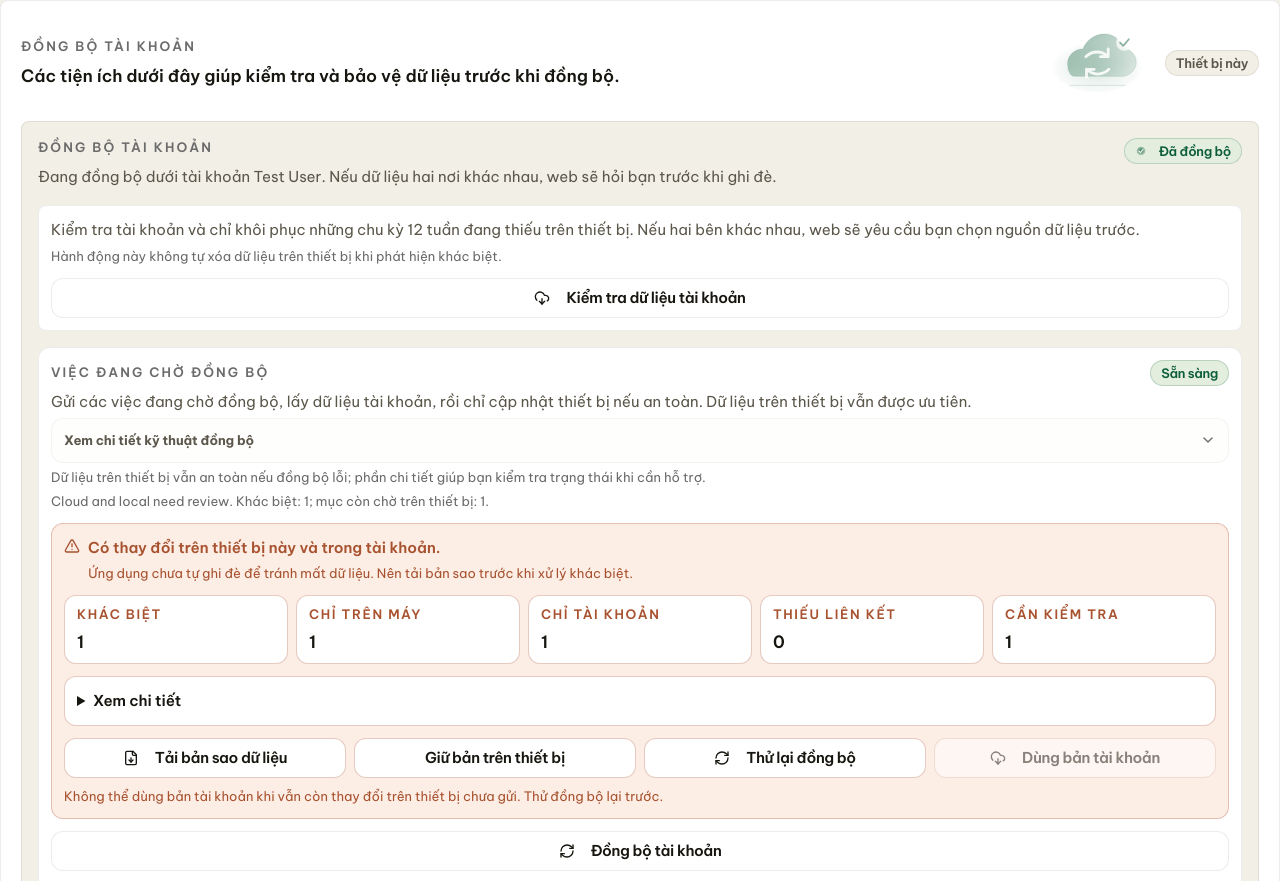
Test: TwelveWeekLocalStatusSection › keeps local for now without mutating browser data
Click the button "Giữ bản trên thiết bị".
click(495, 758)  # box [354,738,636,778]
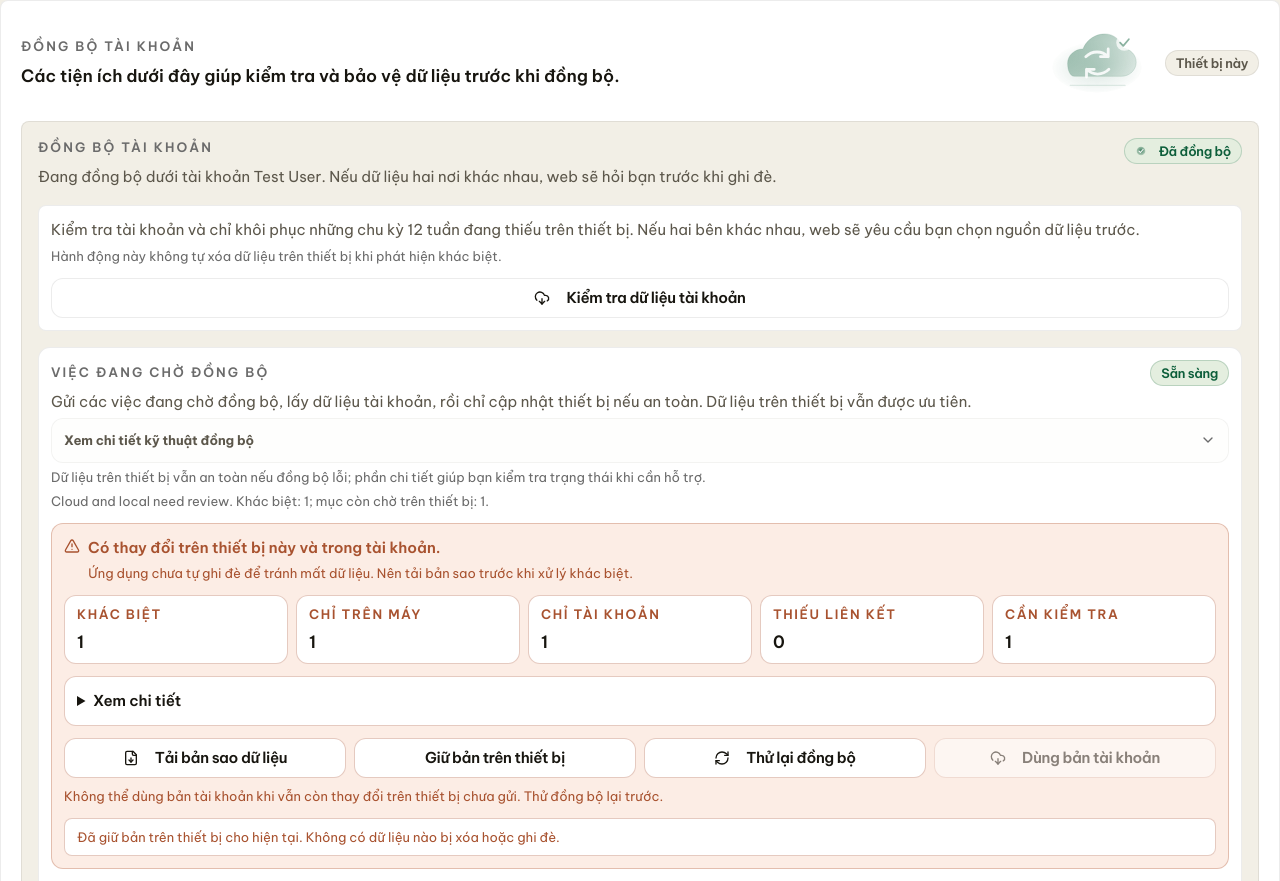
Now the text "Không có dữ liệu nào bị xóa hoặc ghi đè" is shown, box [77,828,560,844]
